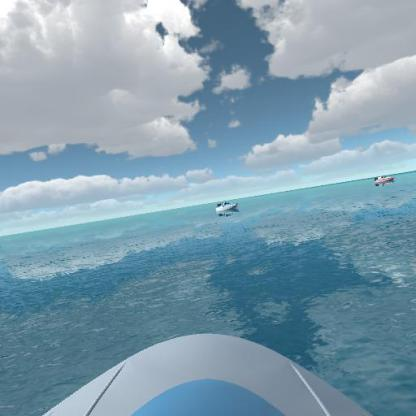usv1: (216, 198, 241, 216)
usv3: (371, 172, 399, 190)
